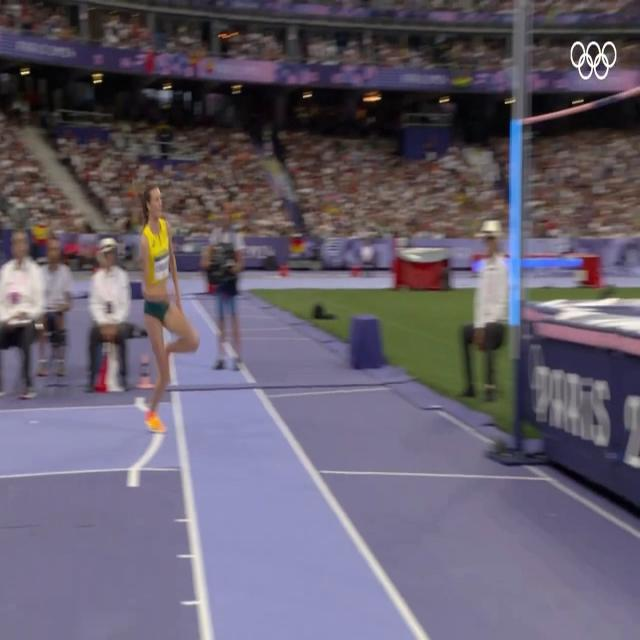run: (136, 186, 199, 432)
